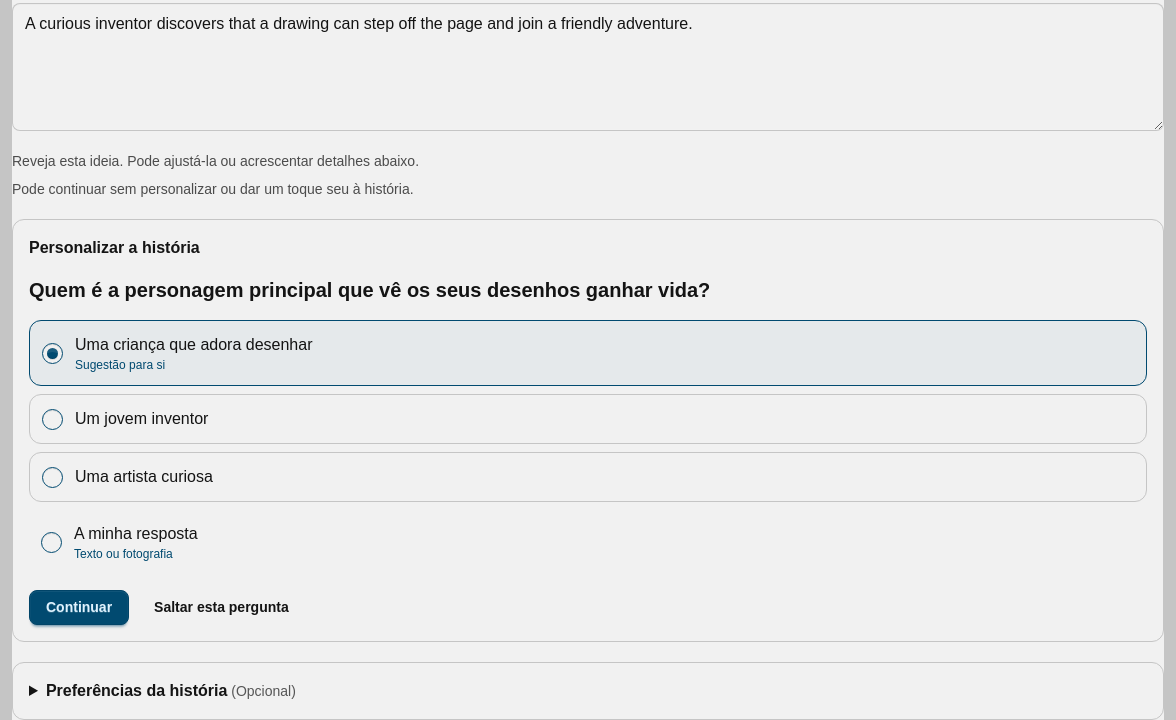
it: StoryTemplatePicker › keeps the authored answer and shows one follow-up after explicit confirmation
(page scrolled)
Click the button "Continuar" at (79, 608), box [29,590,129,625]
(page scrolled)
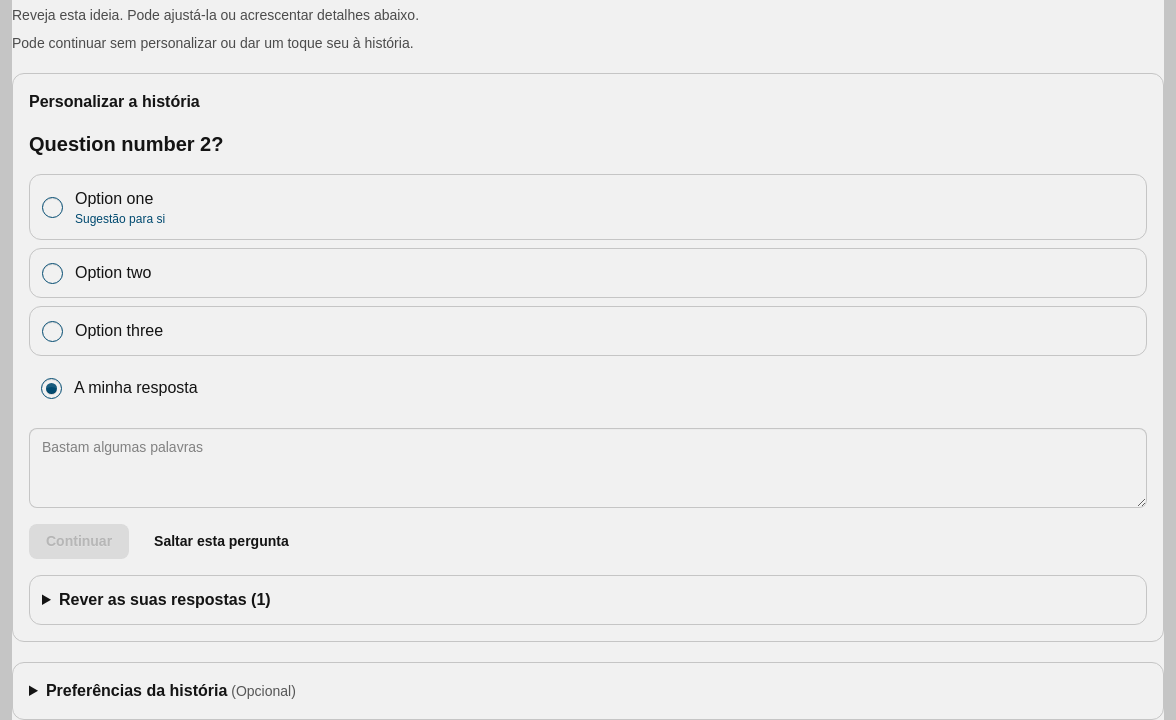
Check: the heading "Question number 2?" is shown, box [29,133,224,155]
Click the heading "Rever as suas respostas (1)" at (165, 600), box [59,591,271,608]
(page scrolled)
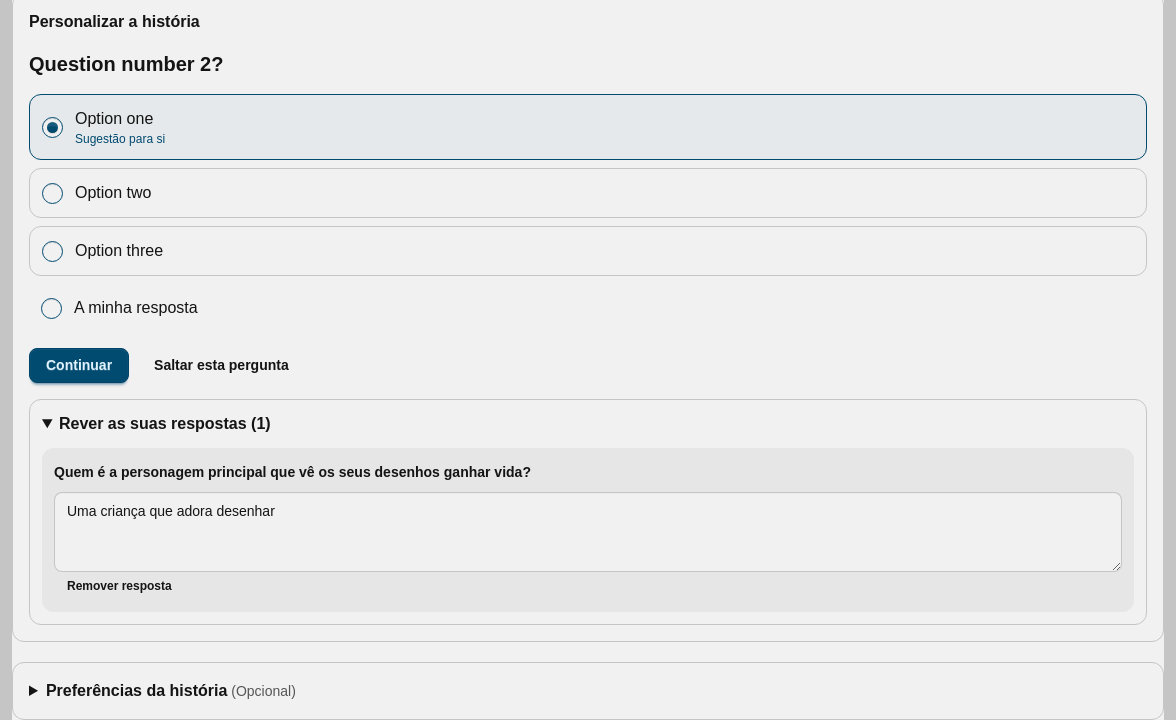
Check: the text box labelled "Quem é a personagem principal que vê os seus desenhos ganhar vida?" holds "Uma criança que adora desenhar", box [54,492,1122,572]
